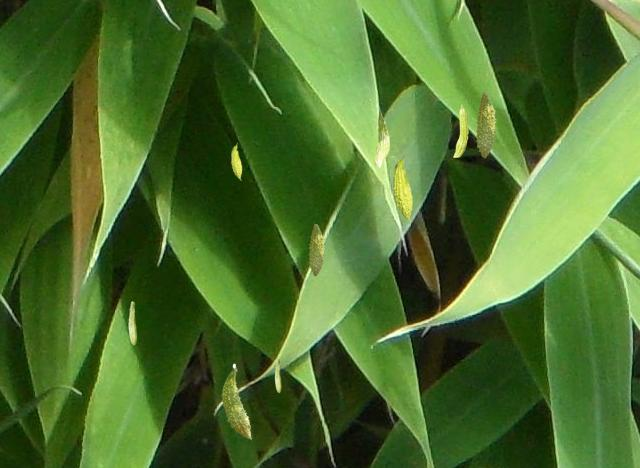ampalaya: (220, 363, 252, 439), (475, 91, 496, 158), (392, 154, 412, 223), (374, 107, 390, 168), (452, 104, 469, 158), (308, 223, 325, 276), (230, 142, 242, 181), (128, 301, 137, 345), (274, 358, 281, 393)
